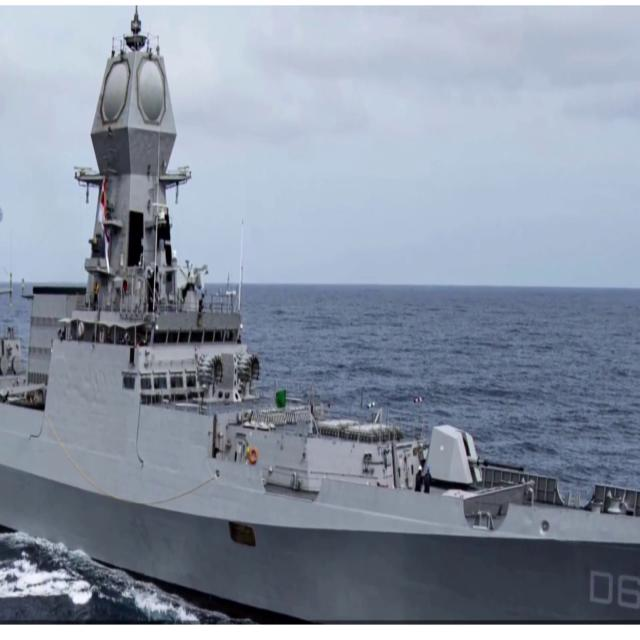OCR: (588, 568, 640, 616)
